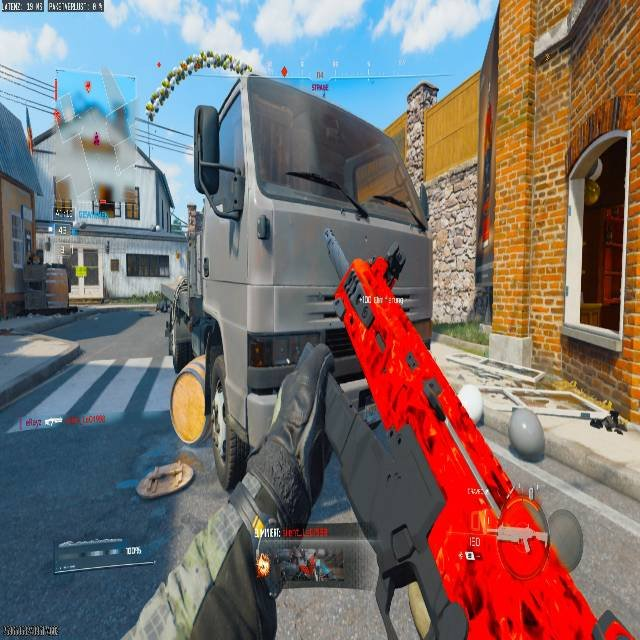player: (307, 550, 318, 577)
